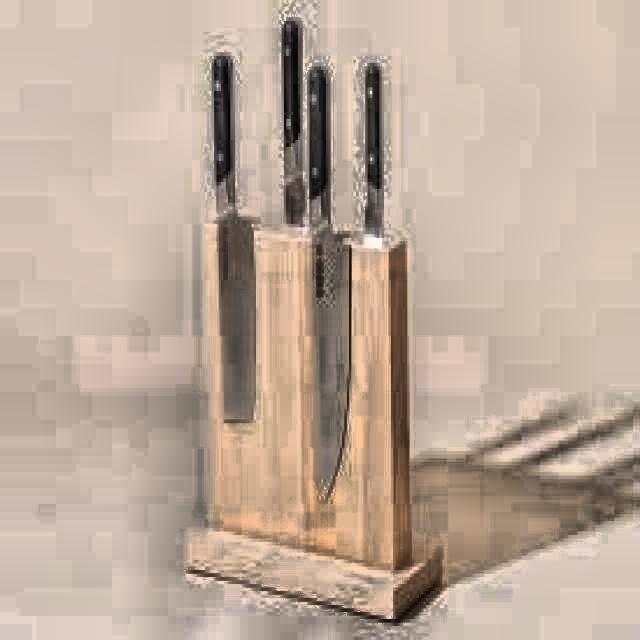knife: (300, 65, 354, 515), (205, 44, 262, 434)
